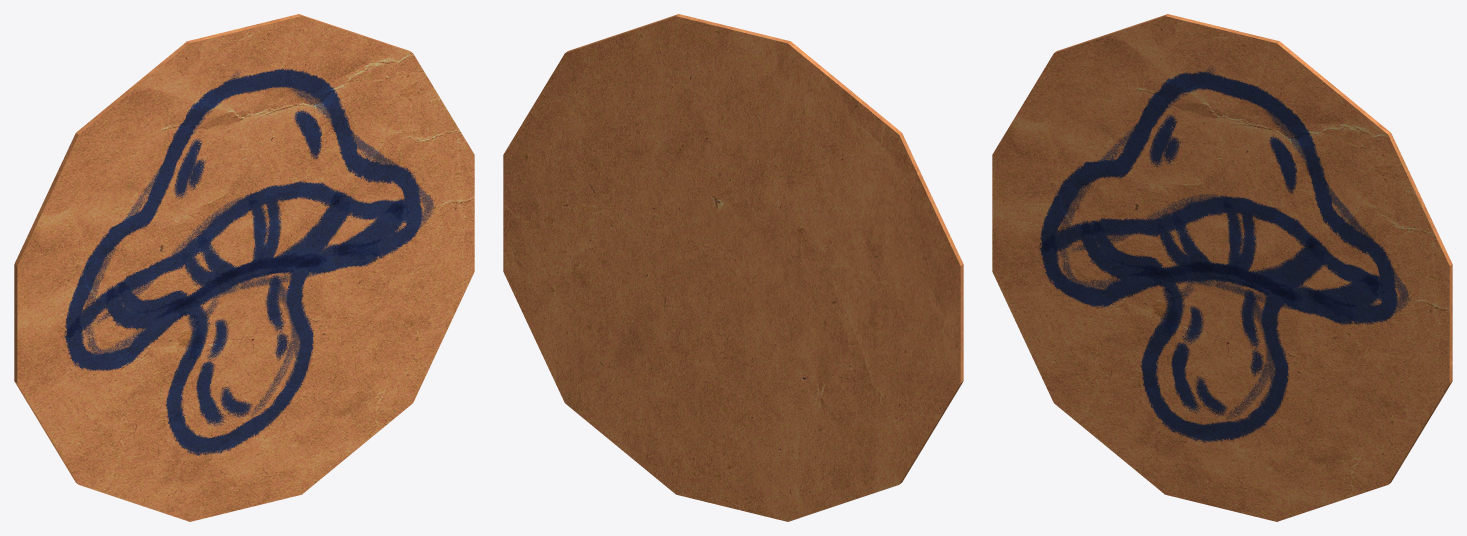
The model's file is Blueprint_Menu_Material_Slot.fbx.
The picture shows the model from 3 angles, left to right: view 1: azimuth 30°, elevation 25°; view 2: azimuth 150°, elevation 25°; view 3: azimuth 330°, elevation 25°; orthographic projection.
Visible parts, largest first — view 1: Material_1.003; view 2: Material_1.003; view 3: Material_1.003.
Part boxes in pixels (x1,y1,x2,y2): Material_1.003: [14, 14, 474, 521]; Material_1.003: [503, 14, 963, 521]; Material_1.003: [992, 14, 1452, 521].
Bounding box in the file's own units: 67.64 × 0.755 × 67.65.
